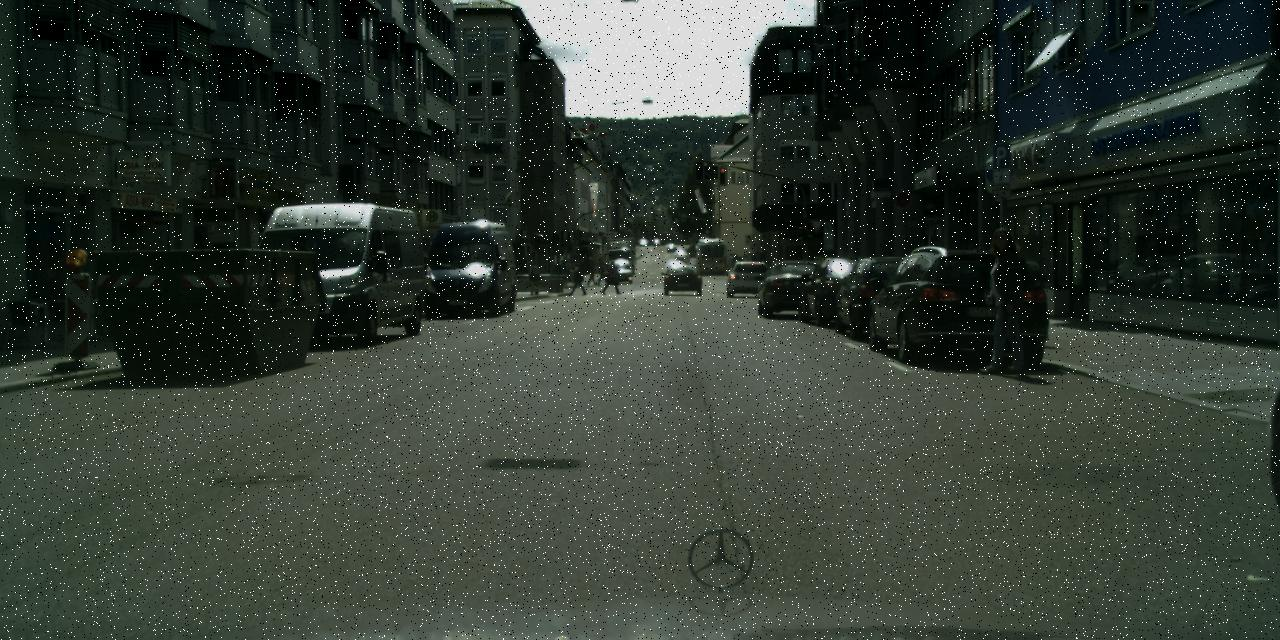ped: (973, 227, 1032, 372), (604, 258, 618, 294), (525, 260, 539, 294), (570, 263, 584, 296), (598, 261, 608, 285), (586, 264, 596, 286)
